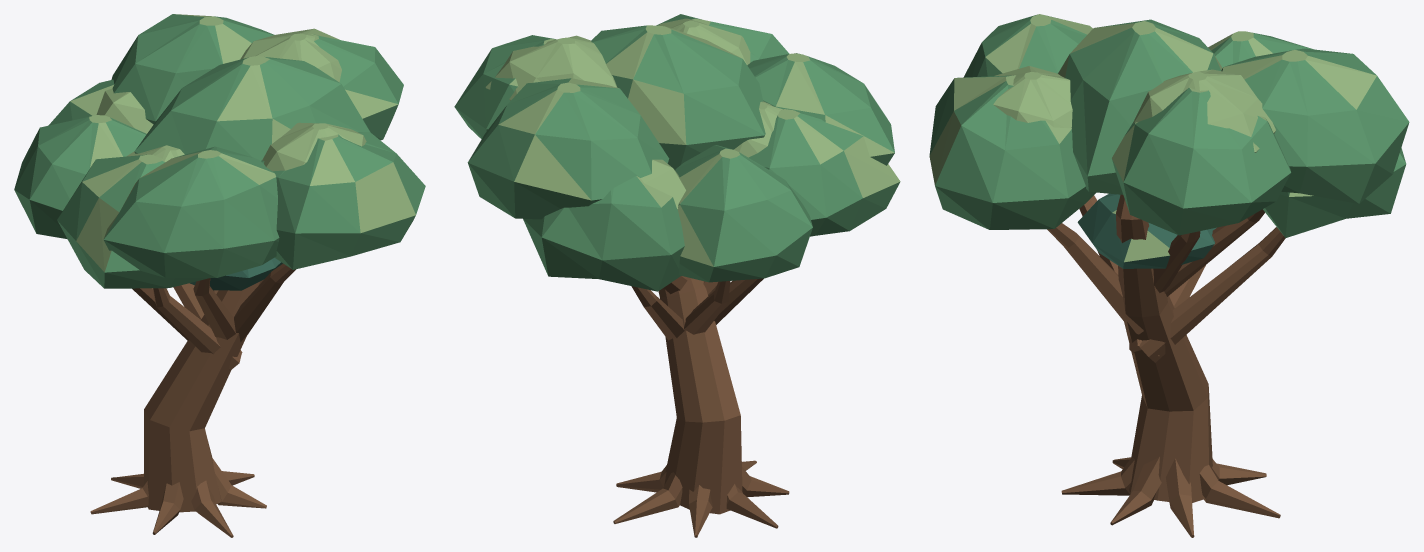
The model's file is tree_windswept_oak.glb.
3 renders of one model, left to right at view 1: azimuth 30°, elevation 25°; view 2: azimuth 150°, elevation 25°; view 3: azimuth 270°, elevation 25°, orthographic. The views are drawn at different scales.
Parts seen in each view (by area): view 1: tree_windswept_oak / mesh; view 2: tree_windswept_oak / mesh; view 3: tree_windswept_oak / mesh.
Part boxes in pixels (box(x1,y1,x2,y2)): tree_windswept_oak / mesh: box(14, 14, 425, 537); tree_windswept_oak / mesh: box(454, 14, 900, 537); tree_windswept_oak / mesh: box(929, 14, 1409, 537).
Size of the model in its own units: 8.85 by 10.26 by 8.94.
